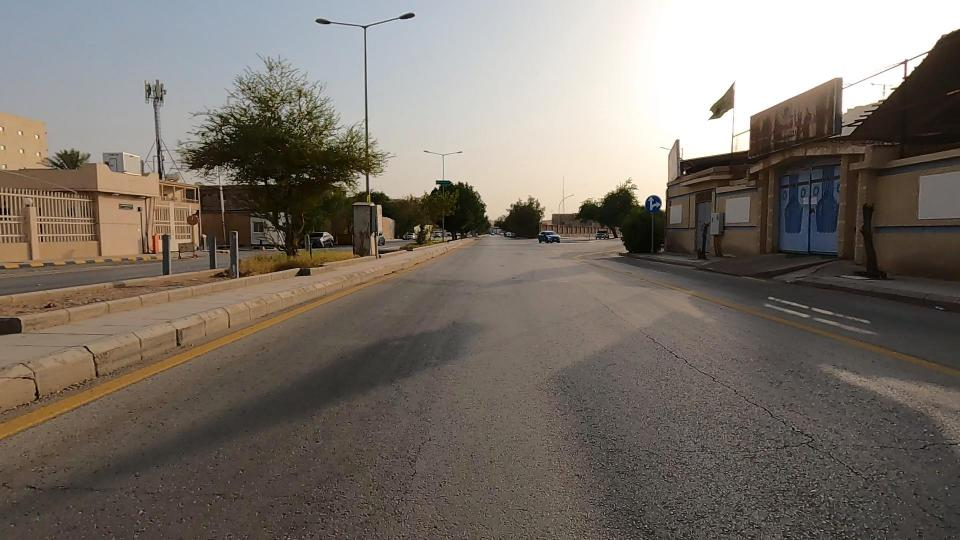BAD_BILLBOARD: (686, 56, 893, 197)
BROKEN_SIGNAGE: (158, 223, 216, 274)
